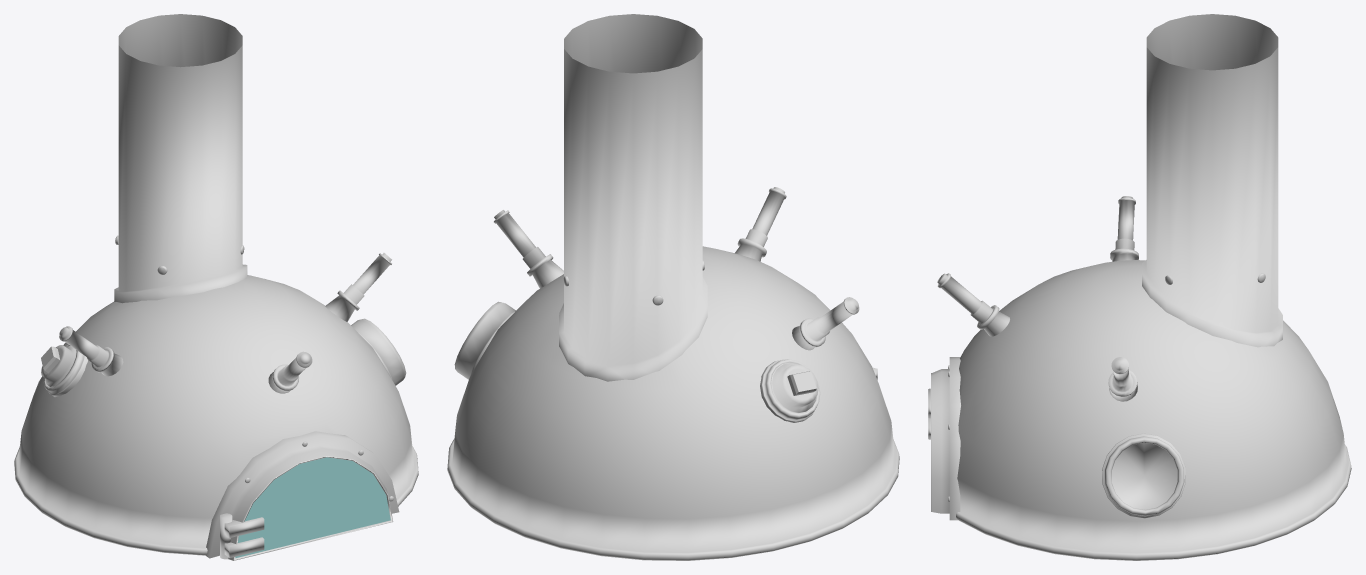
Rendered from GiantFurnaceGlassSeperate.FBX.
The picture shows the model from 3 angles, left to right: view 1: azimuth 30°, elevation 25°; view 2: azimuth 150°, elevation 25°; view 3: azimuth 270°, elevation 25°; orthographic projection. The views are drawn at different scales.
Parts seen in each view (by area): view 1: Box002, glass; view 2: Box002; view 3: Box002.
Part boxes in pixels (left/top/right/bottom): Box002: left=14, top=14, right=418, bottom=560; glass: left=235, top=457, right=390, bottom=557; Box002: left=447, top=14, right=899, bottom=560; Box002: left=928, top=14, right=1351, bottom=560.
Bounding box in the file's own units: 10.97 × 11.82 × 10.56.
